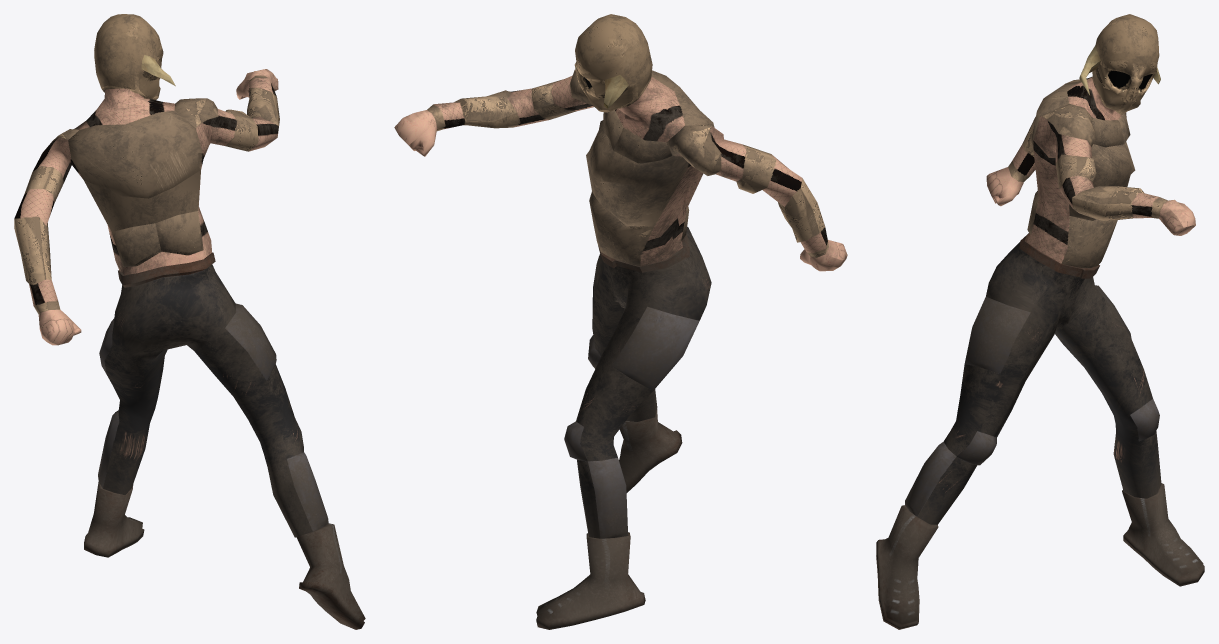
The model's file is Anim_ataque_f3_npc1.0031.obj.
3 renders of one model, left to right at view 1: azimuth 30°, elevation 25°; view 2: azimuth 150°, elevation 25°; view 3: azimuth 270°, elevation 25°, orthographic. The views are drawn at different scales.
Visible parts, largest first — view 1: NPC2; view 2: NPC2; view 3: NPC2.
Part boxes in pixels (left/top/right/bottom): NPC2: left=14, top=14, right=365, bottom=629; NPC2: left=394, top=14, right=847, bottom=629; NPC2: left=876, top=14, right=1204, bottom=629.
Bounding box in the file's own units: 5.66 × 9.29 × 4.97.
